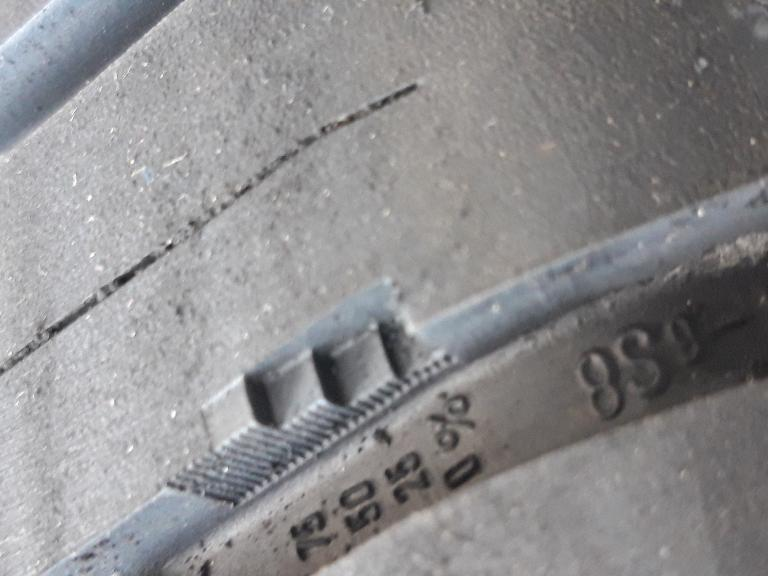temoin:75: (188, 269, 465, 483)
